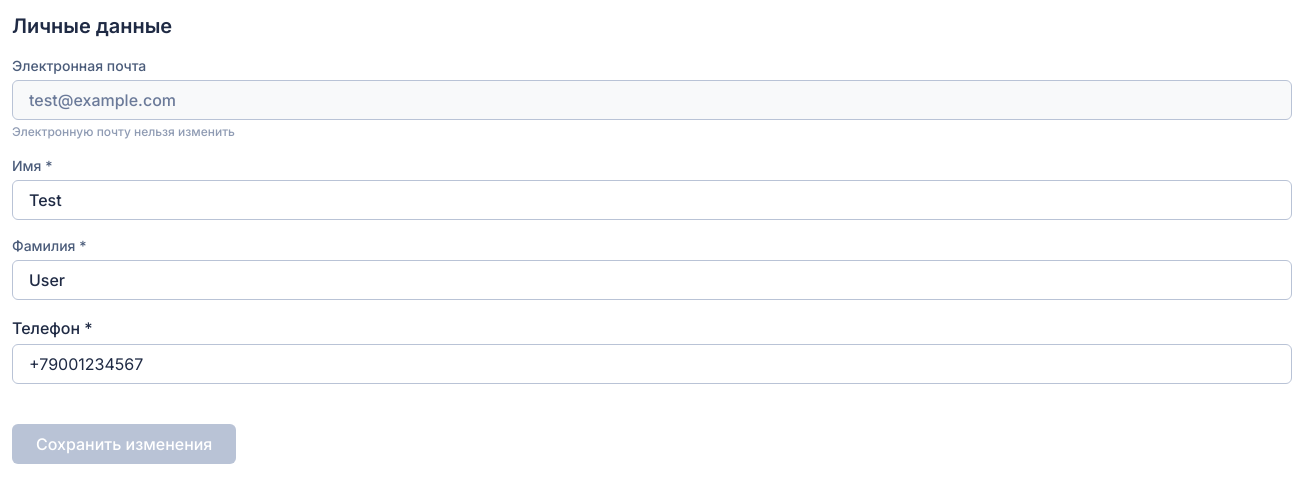
Test: ProfileForm › Form Validation › shows validation error for empty first name
This screenshot has width=1304, height=501.
Clear the field labelled "Имя *" at (652, 200), box [12,180,1292,220]
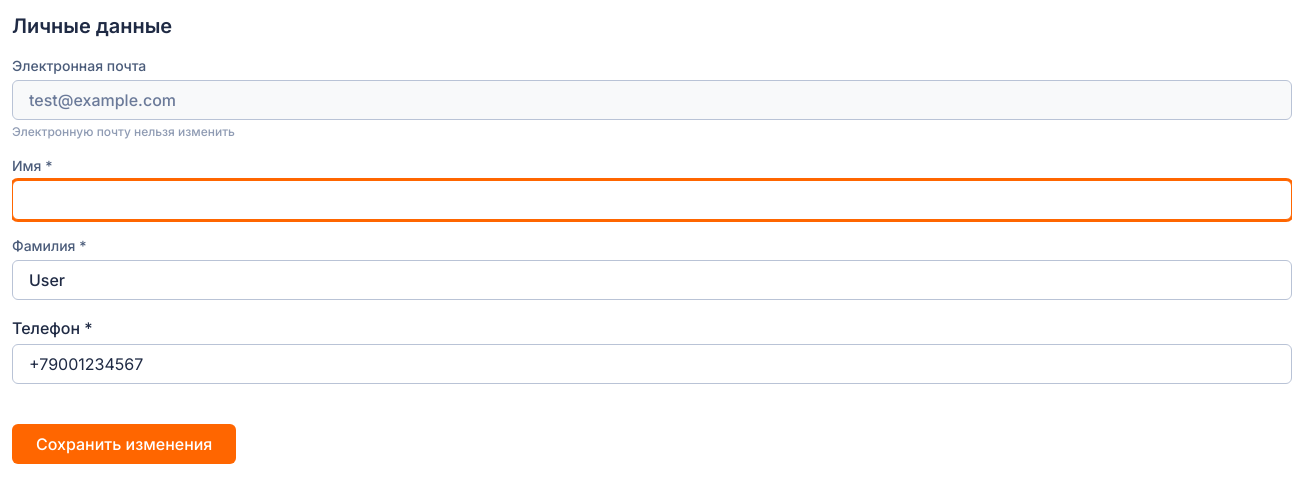
Click the button "Сохранить изменения" at (124, 444), box [12,424,236,464]
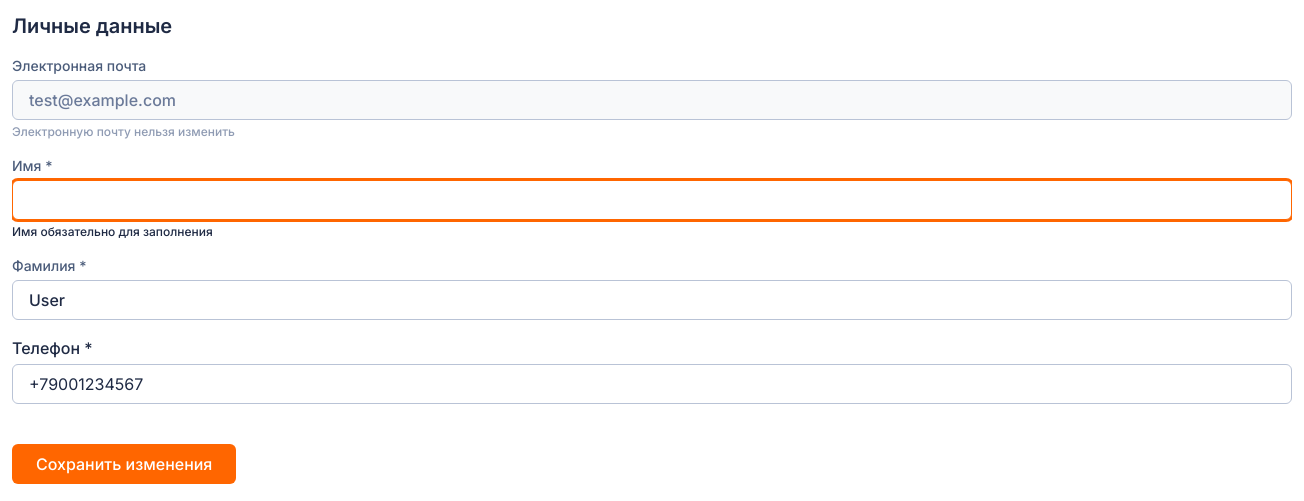
Expected: the text "Имя обязательно для заполнения" is shown, [12,224,213,239]
